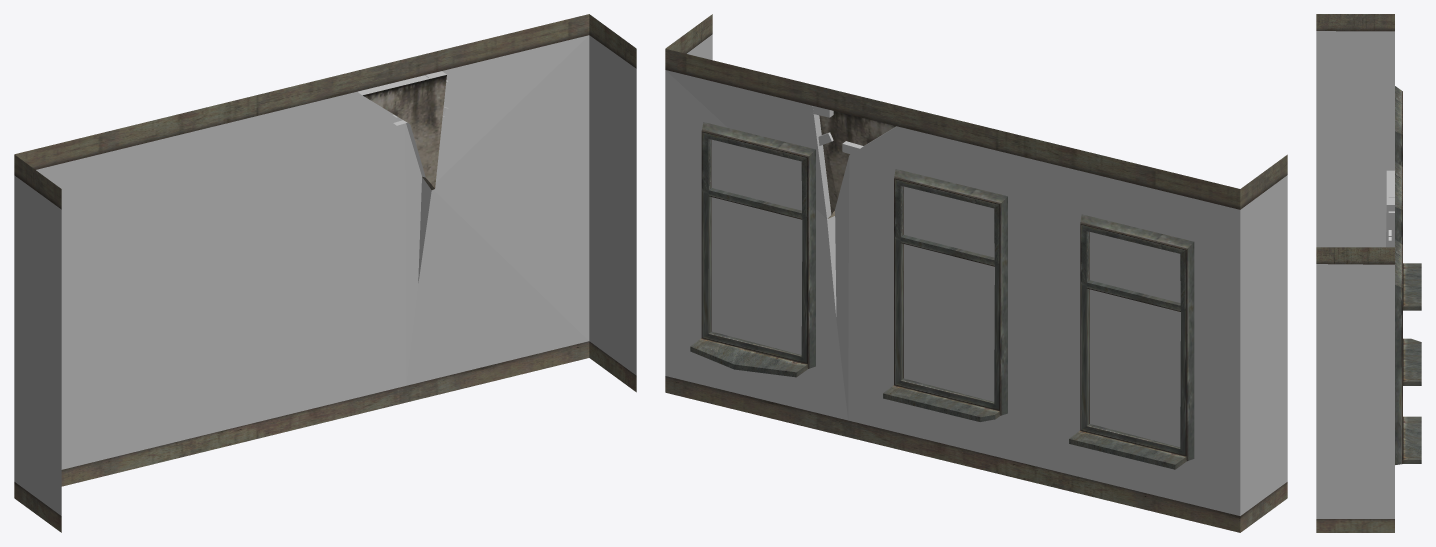
The model's file is Store_front_8_C.fbx.
3 renders of one model, left to right at view 1: azimuth 30°, elevation 25°; view 2: azimuth 150°, elevation 25°; view 3: azimuth 270°, elevation 25°, orthographic. The views are drawn at different scales.
Parts seen in each view (by area): view 1: Store_front_8_C; view 2: Store_front_8_C; view 3: Store_front_8_C.
Part boxes in pixels (box(x1,y1,x2,y2)): Store_front_8_C: box(14, 14, 636, 532); Store_front_8_C: box(665, 14, 1287, 532); Store_front_8_C: box(1316, 14, 1421, 532).
Size of the model in its own units: 700 by 400 by 134.
